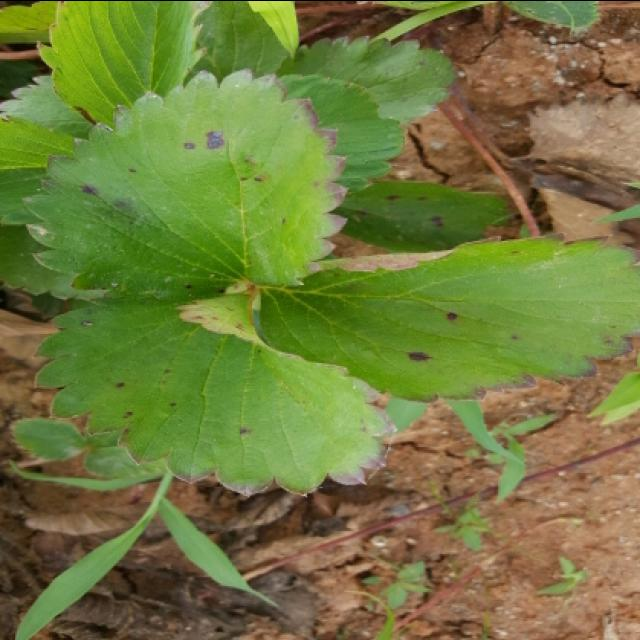Leaf Spot: (21, 67, 350, 299), (32, 290, 398, 497), (254, 229, 638, 403), (276, 35, 463, 121), (330, 181, 514, 251)
